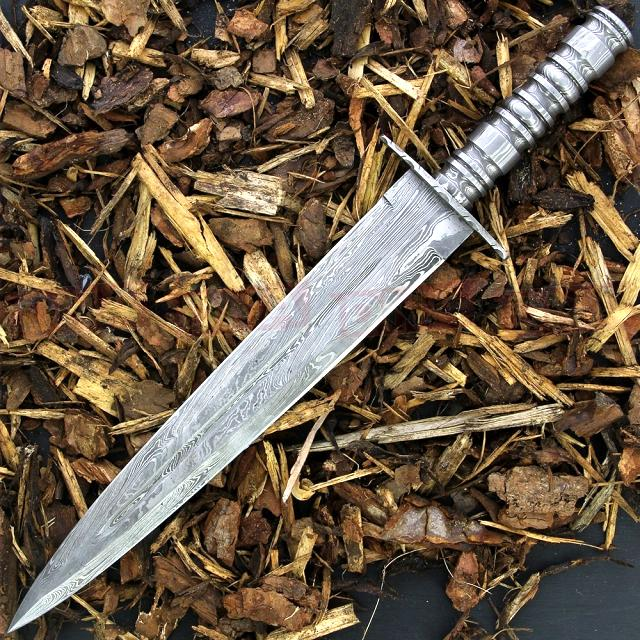short sword: (0, 3, 635, 639)
